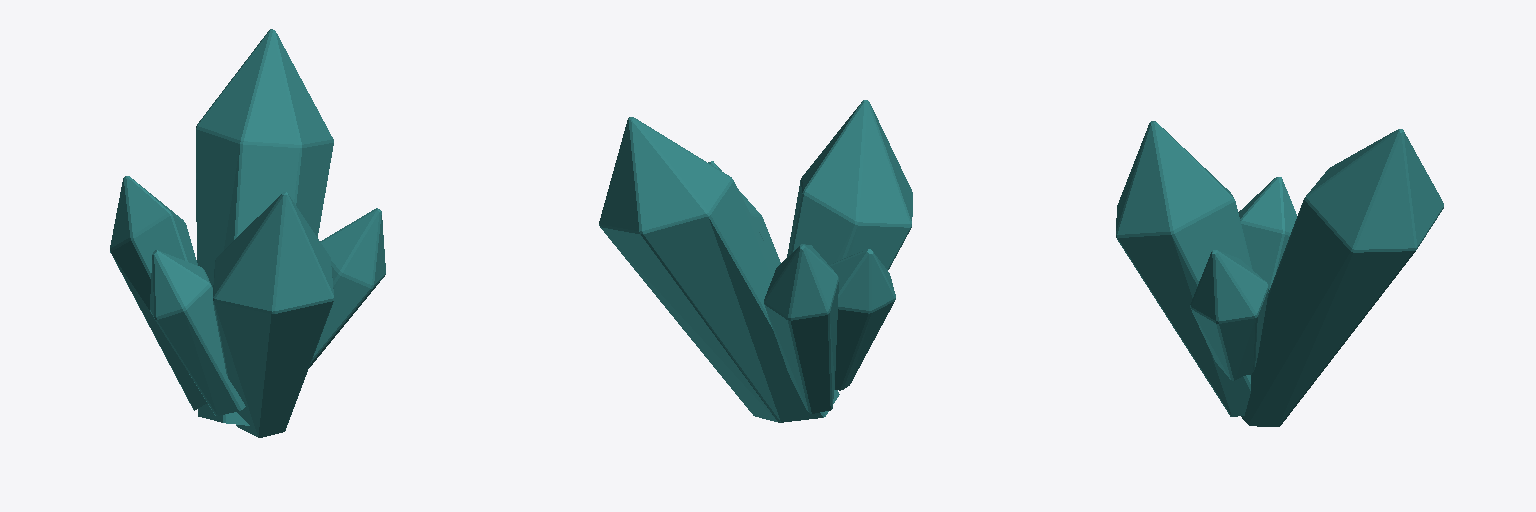
The model's file is crystals.obj.
3 views of the same model, side by side, from view 1: azimuth 30°, elevation 25°; view 2: azimuth 150°, elevation 25°; view 3: azimuth 270°, elevation 25° (orthographic).
Visible parts, largest first — view 1: crystal_2_bevel; view 2: crystal_2_bevel; view 3: crystal_2_bevel.
Part boxes in pixels (bbox=[...]): crystal_2_bevel: bbox=[110, 29, 385, 437]; crystal_2_bevel: bbox=[599, 100, 912, 422]; crystal_2_bevel: bbox=[1116, 121, 1443, 426].
Size of the model in its own units: 5.98 by 8.17 by 7.44.